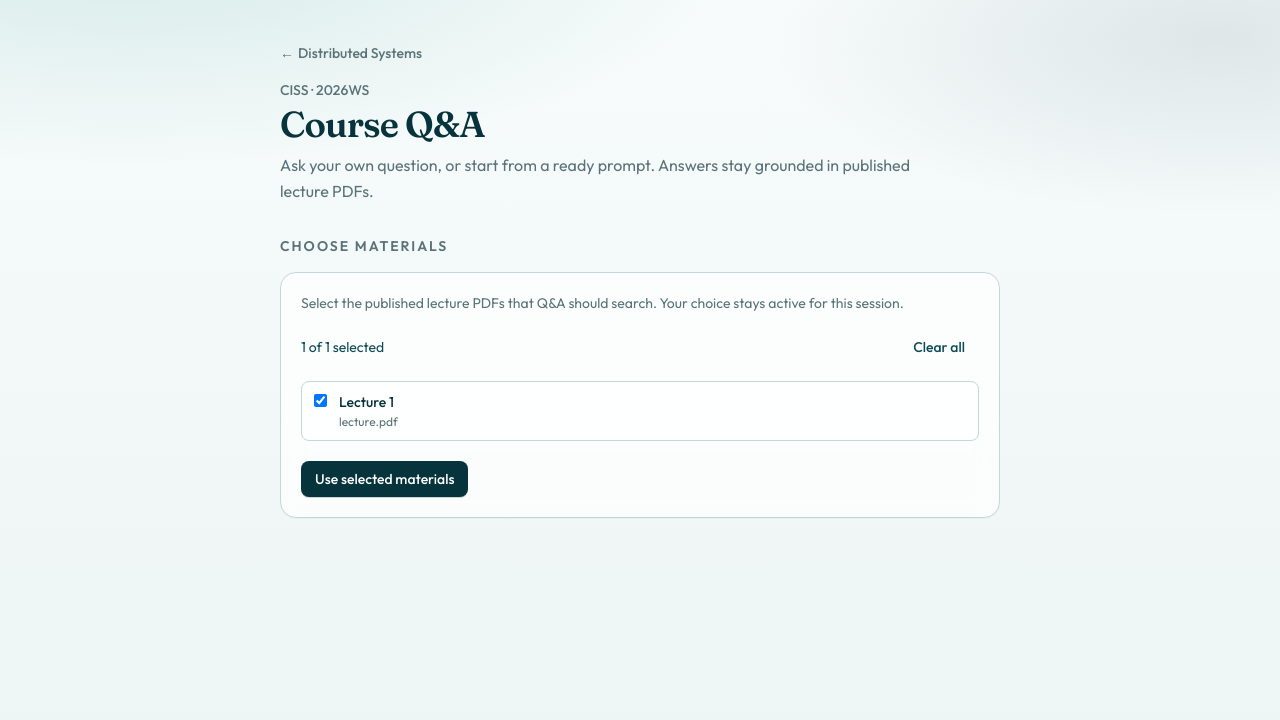
Test: course Q&A page › fills a ready-to-use prompt into the question box without asking yet
The width and height of the screenshot is (1280, 720).
Click the button "Use selected materials" at (385, 479), box [301, 461, 468, 497]
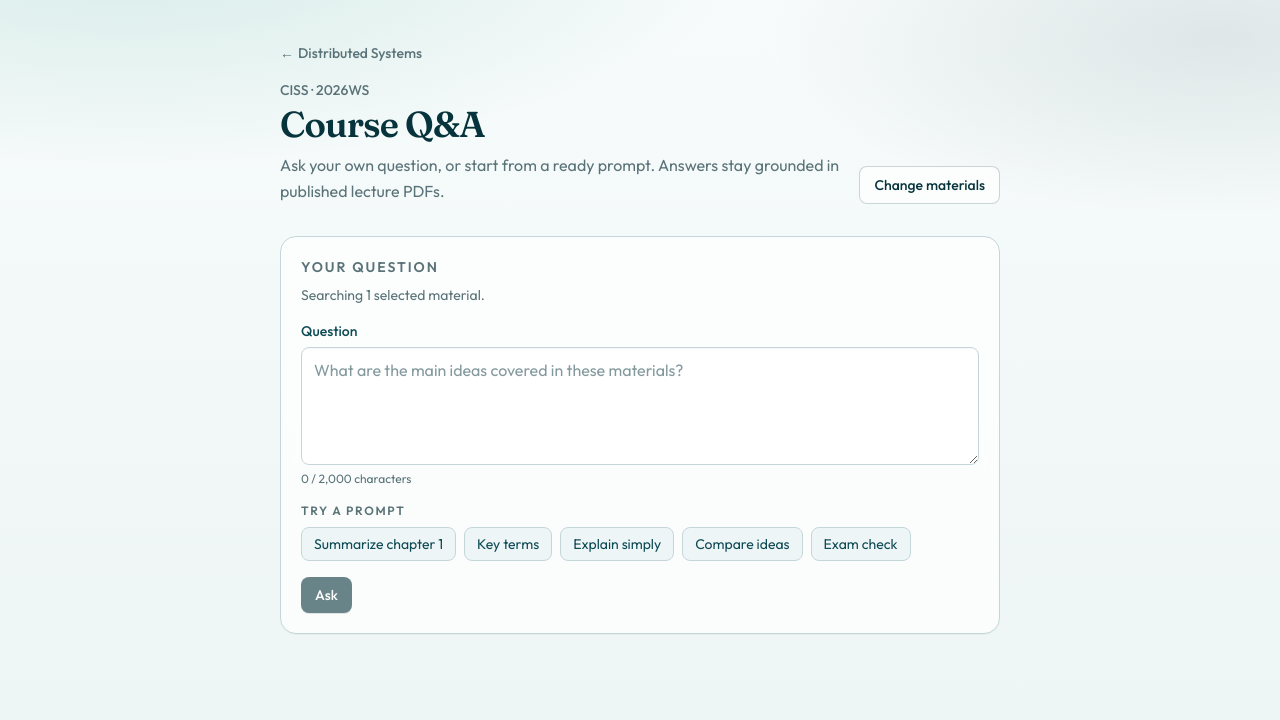
Expected: the text "Try a prompt" is shown, [301, 503, 406, 518]
Click the button "Summarize chapter 1" at (379, 544), box [301, 527, 456, 561]
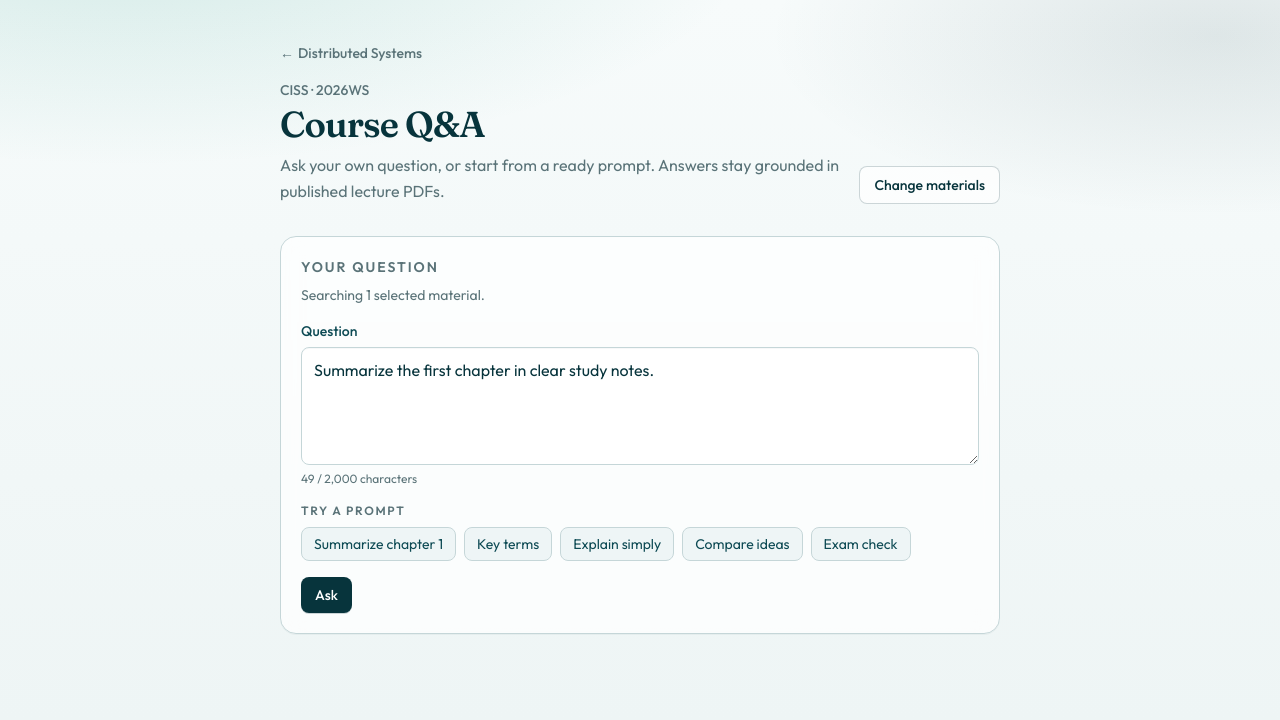
Expected: the text box showing "Summarize the first chapter in clear study notes." is shown, [301, 347, 979, 465]
